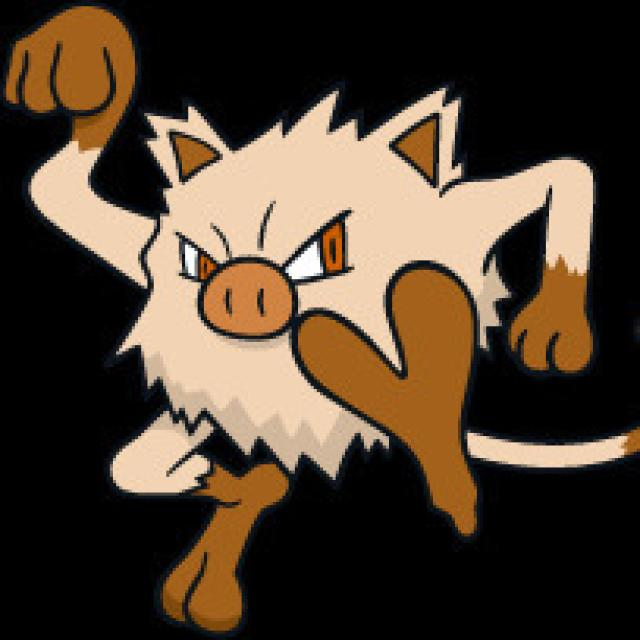Mankey: (36, 78, 502, 536)
